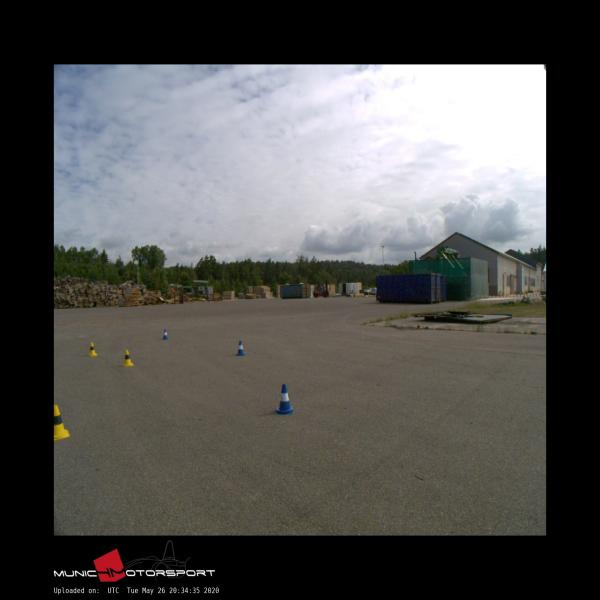blue_cone: (275, 384, 293, 414), (237, 341, 245, 355), (162, 330, 168, 338)
yellow_cone: (54, 404, 69, 441), (121, 349, 134, 366), (88, 342, 98, 356)
